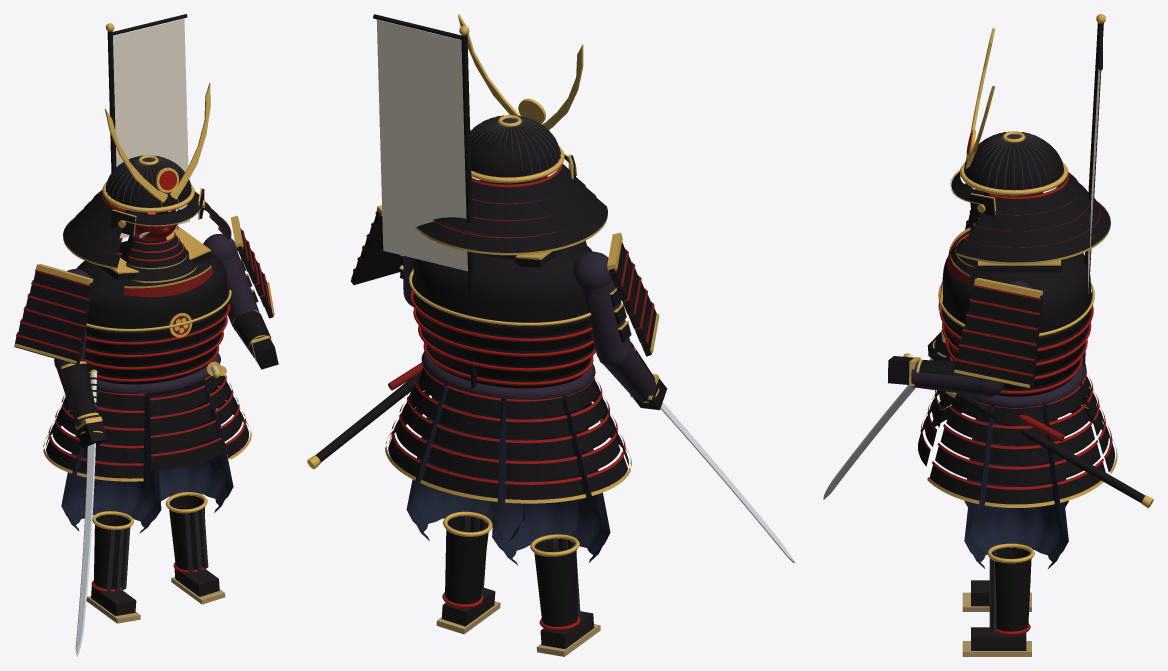
The model's file is samurai.glb.
3 views of the same model, side by side, from view 1: azimuth 30°, elevation 25°; view 2: azimuth 150°, elevation 25°; view 3: azimuth 270°, elevation 25° (orthographic). The views are drawn at different scales.
Visible parts, largest first — view 1: torso_urushi-black, hips_urushi-black, banner, shin (×2), kabuto_urushi-black, legR, sodeR_urushi-black, legL, hips_odoshi-lace, torso_odoshi-lace, forearm (×2), armL_kote-brocade (+17 smaller); view 2: banner, torso_urushi-black, hips_urushi-black, kabuto_urushi-black, shin (×2), legR, legL, hips_odoshi-lace, armR_kote-brocade, torso_odoshi-lace, hips, sashimono_urushi-black (+11 smaller); view 3: hips_urushi-black, kabuto_urushi-black, torso_urushi-black, sodeL_urushi-black, legL, shin (×2), hips_odoshi-lace, saya, kabuto_gold, forearm_kote-brocade, hips, torso_odoshi-lace (+13 smaller).
Part boxes in pixels (x1,y1,x2,y2): torso_urushi-black: (76, 235, 228, 384); hips_urushi-black: (46, 375, 248, 478); banner: (113, 18, 189, 238); shin (×2): (86, 492, 225, 623); kabuto_urushi-black: (63, 156, 231, 268); legR: (61, 392, 161, 533); sodeR_urushi-black: (14, 271, 93, 364); legL: (133, 382, 233, 513); hips_odoshi-lace: (48, 375, 246, 465); torso_odoshi-lace: (84, 303, 230, 381); forearm (×2): (62, 310, 271, 417); armL_kote-brocade: (203, 234, 259, 326); banner: (376, 19, 467, 271); torso_urushi-black: (412, 242, 594, 388); hips_urushi-black: (388, 367, 628, 499); kabuto_urushi-black: (417, 116, 607, 252); shin (×2): (436, 511, 600, 656); legR: (492, 399, 610, 565); legL: (406, 387, 524, 540); hips_odoshi-lace: (391, 365, 625, 484); armR_kote-brocade: (573, 251, 631, 359); torso_odoshi-lace: (410, 290, 595, 385); hips: (421, 351, 595, 402); sashimono_urushi-black: (373, 14, 478, 414); hips_urushi-black: (918, 376, 1114, 504); kabuto_urushi-black: (951, 135, 1110, 262); torso_urushi-black: (942, 235, 1092, 396); sodeL_urushi-black: (953, 282, 1043, 389); legL: (964, 407, 1068, 568); shin (×2): (962, 543, 1034, 656); hips_odoshi-lace: (920, 367, 1112, 489); saya: (955, 393, 1145, 502); kabuto_gold: (950, 131, 1110, 264); forearm_kote-brocade: (911, 361, 1004, 397); hips: (949, 359, 1086, 409); torso_odoshi-lace: (939, 305, 1093, 394).
Size of the model in its own units: 1.34 by 2.45 by 1.2.
